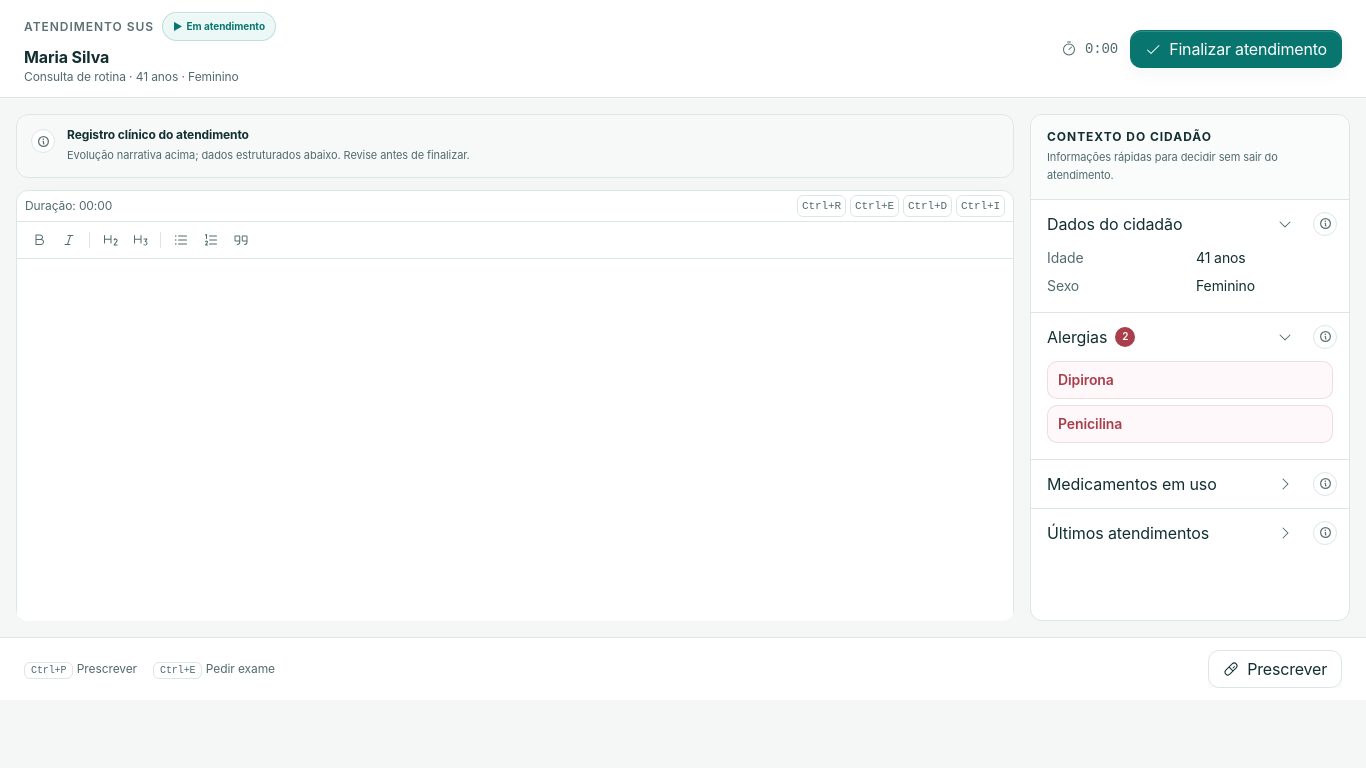
Test: TelaDeAtendimento › mostra status finalizado após clicar Finalizar
This screenshot has width=1366, height=768.
Click the button "Finalizar atendimento" at {"x": 1236, "y": 48}, box [1130, 30, 1342, 68]
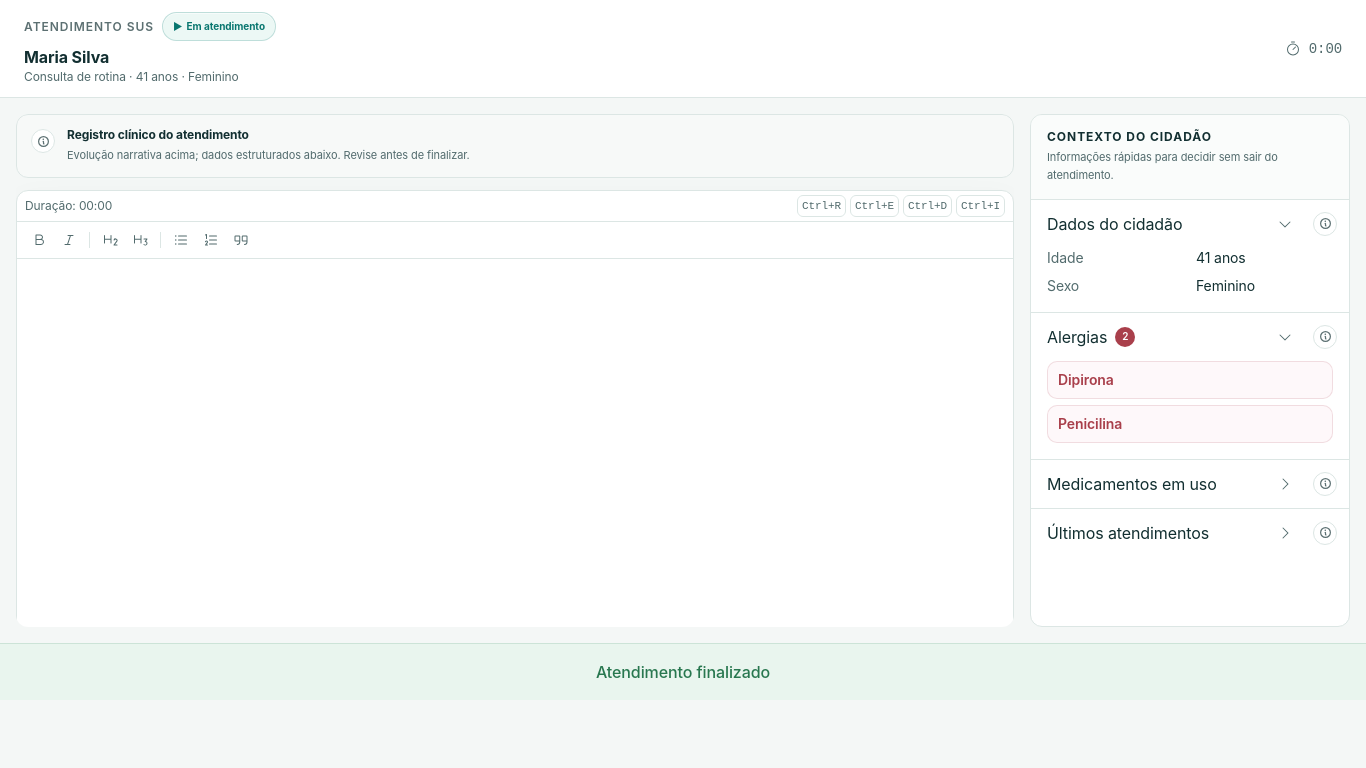
Expected: the message reads "Atendimento finalizado", [596, 662, 770, 682]
